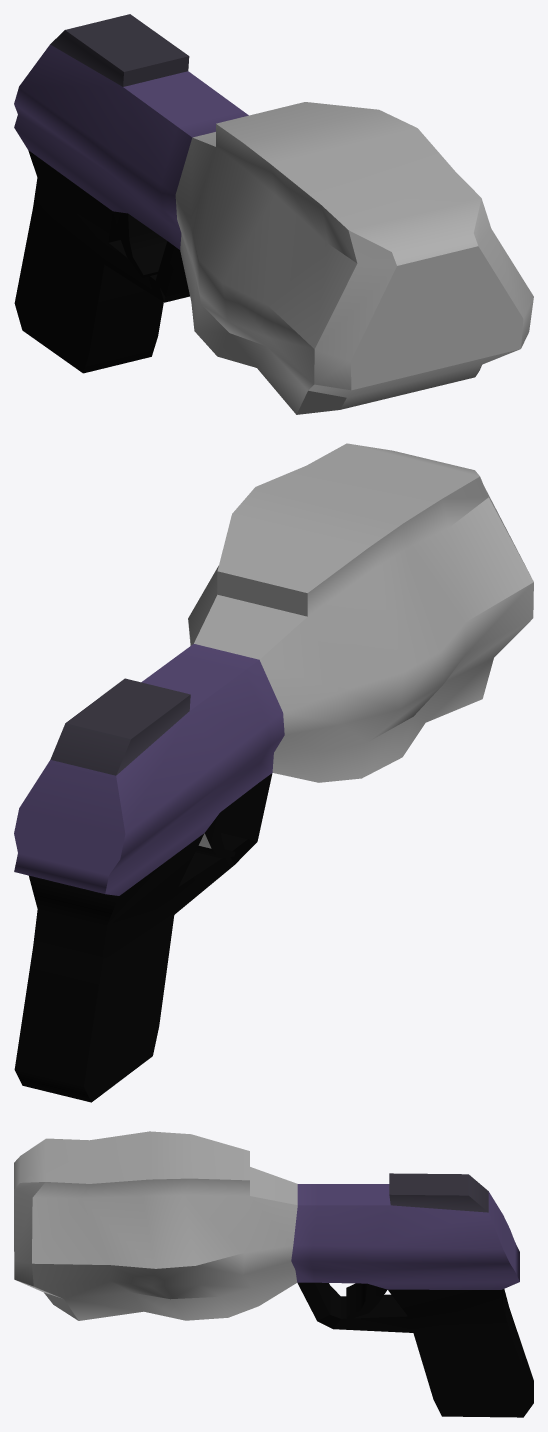
The model's file is IceGun.fbx.
The picture shows the model from 3 angles, top to bottom: view 1: azimuth 30°, elevation 25°; view 2: azimuth 150°, elevation 25°; view 3: azimuth 270°, elevation 25°; orthographic projection. The views are drawn at different scales.
Visible parts, largest first — view 1: Ice_Gun; view 2: Ice_Gun; view 3: Ice_Gun.
Part boxes in pixels (x1,y1,x2,y2): Ice_Gun: (14, 14, 533, 414); Ice_Gun: (14, 443, 533, 1102); Ice_Gun: (14, 1131, 533, 1417).
Size of the model in its own units: 19.71 by 30.66 by 56.96.
